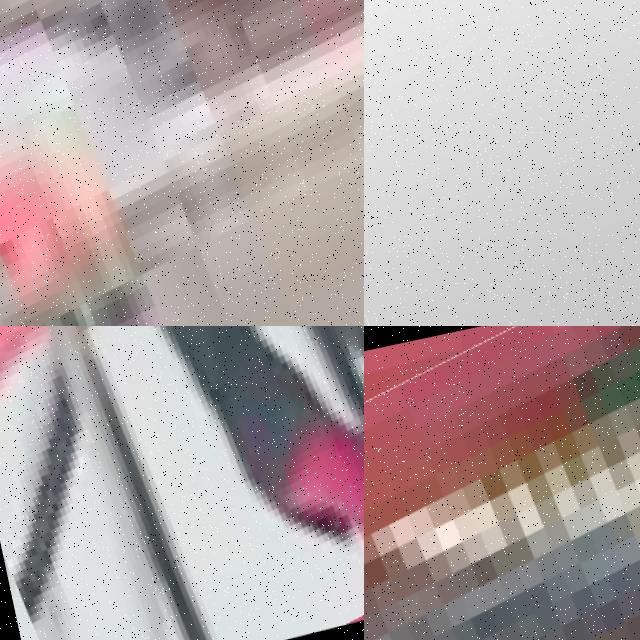0: (0, 0, 364, 326)
drone: (0, 326, 364, 640), (364, 0, 640, 326), (364, 326, 640, 640)
